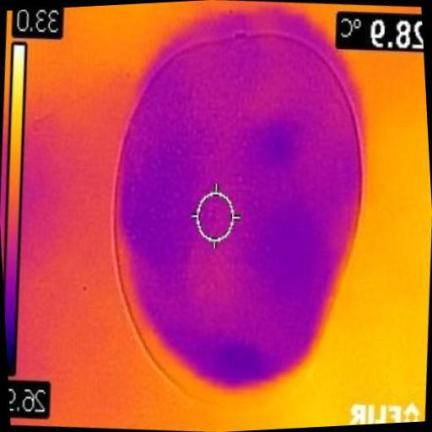mango: (117, 27, 361, 403)
